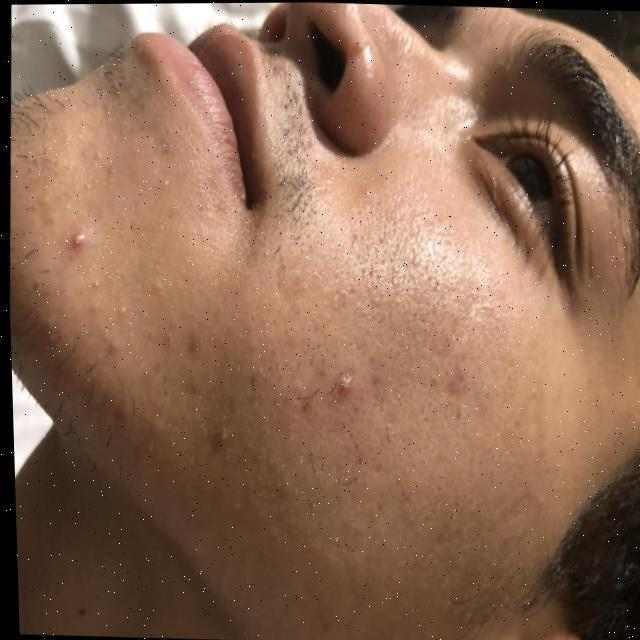Acne: (48, 222, 356, 446)
